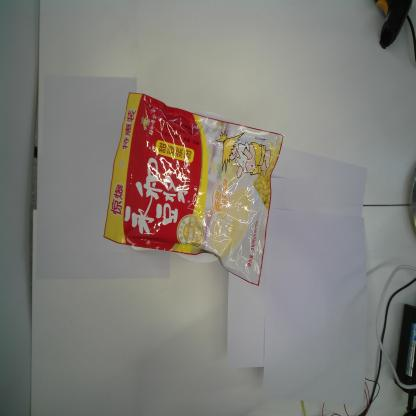Instant Drink: (104, 90, 284, 286)
